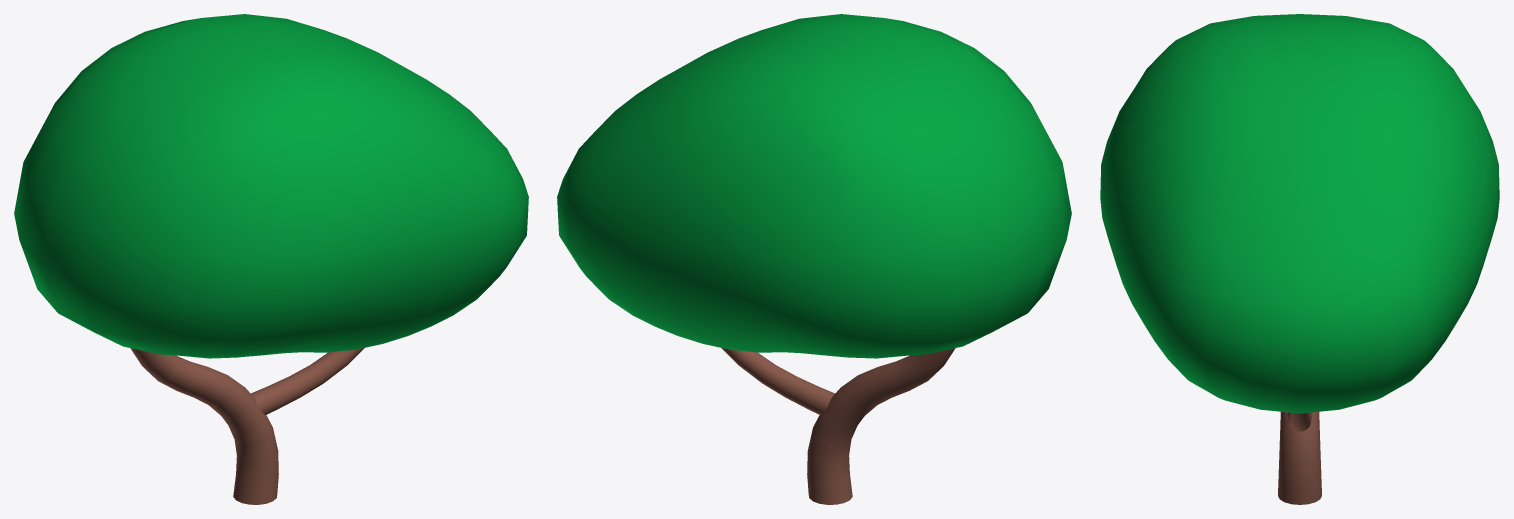
File: Farm_16_Tree_1.glb
3 renders of one model, left to right at view 1: azimuth 30°, elevation 25°; view 2: azimuth 150°, elevation 25°; view 3: azimuth 270°, elevation 25°, orthographic.
Visible parts, largest first — view 1: Farm_16_Tree_1; view 2: Farm_16_Tree_1; view 3: Farm_16_Tree_1.
Part boxes in pixels (bbox=[...]): Farm_16_Tree_1: bbox=[14, 14, 528, 504]; Farm_16_Tree_1: bbox=[557, 14, 1071, 504]; Farm_16_Tree_1: bbox=[1100, 14, 1499, 504].
Size of the model in its own units: 4.15 by 3.89 by 3.13.
Materials: 1 (1 with a texture image).
